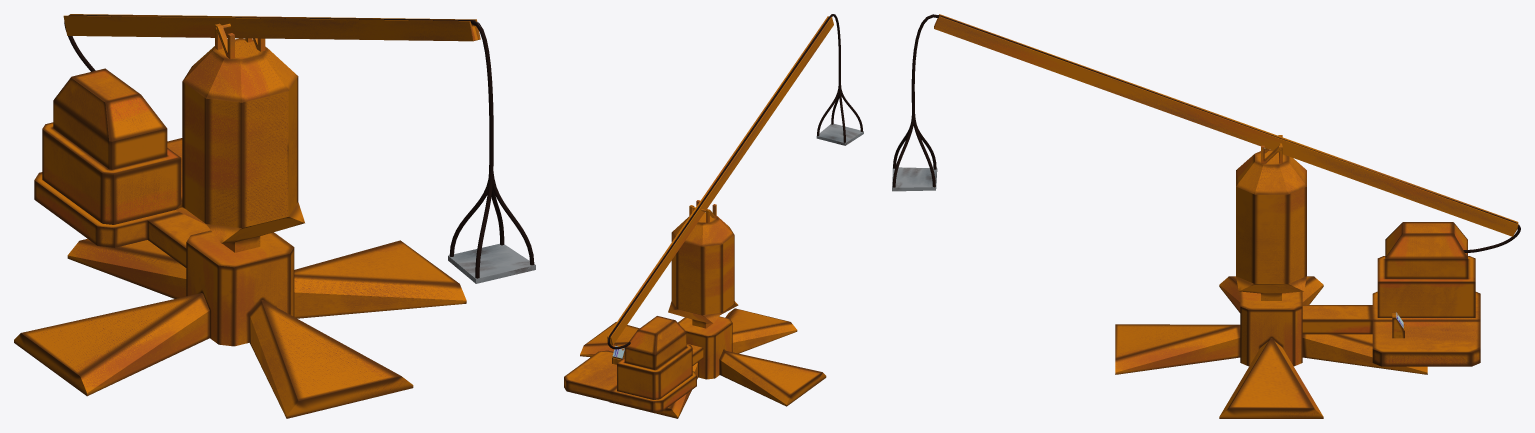
Rendered from Crane.fbx.
3 views of the same model, side by side, from view 1: azimuth 30°, elevation 25°; view 2: azimuth 150°, elevation 25°; view 3: azimuth 270°, elevation 25° (orthographic). The views are drawn at different scales.
Parts seen in each view (by area): view 1: Crane Base, Crane Engine, Crane Arm, Crane Rope; view 2: Crane Base, Crane Engine, Crane Arm, Crane Rope; view 3: Crane Base, Crane Engine, Crane Arm, Crane Rope.
Boxes of the visible parts, <box> form: Crane Base: <box>14,38,466,418</box>; Crane Engine: <box>34,68,210,267</box>; Crane Arm: <box>63,14,480,58</box>; Crane Rope: <box>64,15,535,283</box>; Crane Base: <box>580,212,826,418</box>; Crane Engine: <box>564,316,703,412</box>; Crane Arm: <box>607,16,833,345</box>; Crane Rope: <box>607,14,863,349</box>; Crane Base: <box>1115,150,1427,418</box>; Crane Engine: <box>1302,222,1480,366</box>; Crane Arm: <box>934,14,1518,236</box>; Crane Rope: <box>892,14,1520,252</box>.
Bounding box in the file's own units: 10.04 × 20.19 × 12.
